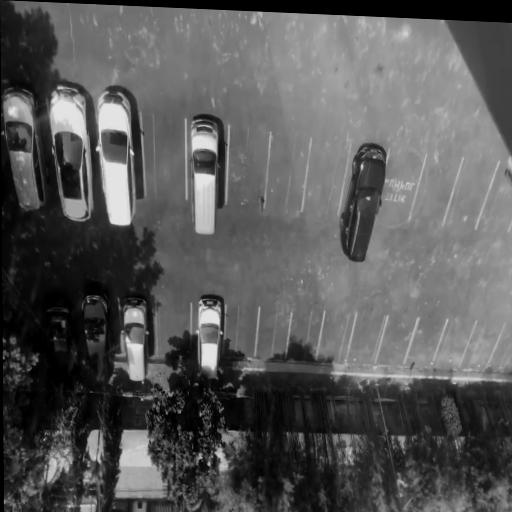Car: (47, 82, 97, 226), (337, 139, 391, 267), (1, 86, 49, 218), (97, 87, 140, 228), (76, 286, 118, 384), (191, 116, 221, 239), (42, 295, 84, 376), (119, 295, 152, 383), (194, 295, 226, 383)
Space Available: (142, 111, 188, 206), (443, 160, 499, 230), (409, 154, 463, 226), (226, 126, 271, 211), (264, 133, 312, 210), (303, 141, 351, 218), (377, 149, 427, 221), (476, 163, 512, 231), (460, 320, 505, 370), (375, 313, 419, 364), (316, 310, 358, 363), (433, 319, 478, 368), (156, 298, 192, 359), (404, 318, 447, 364), (255, 309, 292, 362), (348, 315, 388, 363), (224, 306, 260, 359), (287, 312, 325, 361), (486, 324, 512, 376)
